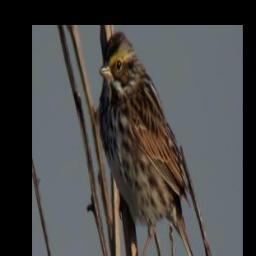Sparrow: (97, 31, 202, 256)
